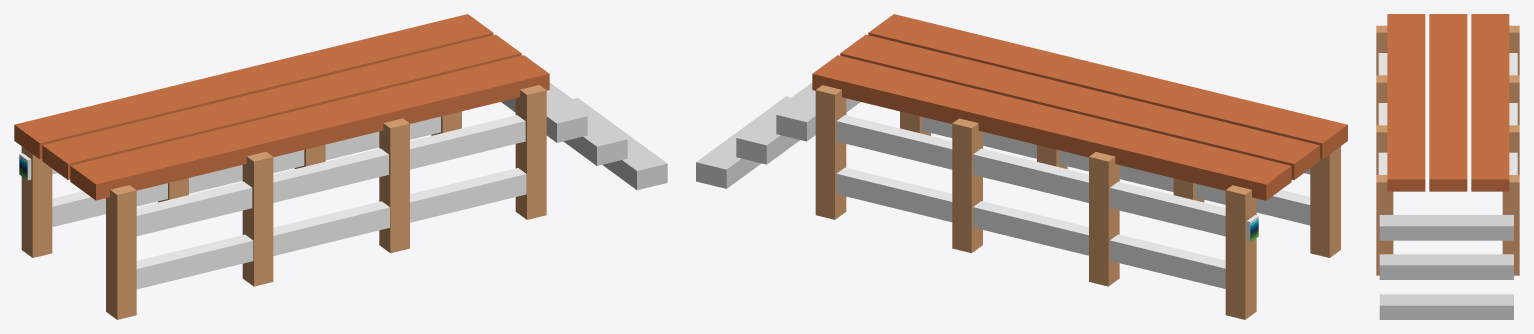
Rendered from Muelle.ProyectoExportadountitled 1.fbx.
The picture shows the model from 3 angles, left to right: view 1: azimuth 30°, elevation 25°; view 2: azimuth 150°, elevation 25°; view 3: azimuth 270°, elevation 25°; orthographic projection. The views are drawn at different scales.
Visible parts, largest first — view 1: Cube, Cube.008, Cube.014, Cube.013, Cube.009, Cube.015, Cube.001, Cube.002; view 2: Cube, Cube.008, Cube.011, Cube.009, Cube.014, Cube.012, Cube.015, Cube.001, Cube.002; view 3: Cube, Cube.008, Cube.015, Cube.001, Cube.002, Cube.013, Cube.011, Cube.012.
Boxes of the visible parts, <box> form: Cube: <box>14,14,549,200</box>; Cube.008: <box>21,85,546,319</box>; Cube.014: <box>136,168,526,289</box>; Cube.013: <box>136,115,525,236</box>; Cube.009: <box>52,116,440,226</box>; Cube.015: <box>573,98,667,190</box>; Cube.001: <box>549,82,627,165</box>; Cube.002: <box>501,89,587,142</box>; Cube: <box>812,14,1347,200</box>; Cube.008: <box>815,85,1340,319</box>; Cube.011: <box>836,118,1258,242</box>; Cube.009: <box>836,167,1225,288</box>; Cube.014: <box>922,117,1310,225</box>; Cube.012: <box>837,115,1251,239</box>; Cube.015: <box>696,96,790,188</box>; Cube.001: <box>736,82,812,164</box>; Cube.002: <box>776,89,860,141</box>; Cube: <box>1387,14,1509,191</box>; Cube.008: <box>1376,25,1519,275</box>; Cube.015: <box>1379,294,1513,319</box>; Cube.001: <box>1379,254,1513,279</box>; Cube.002: <box>1379,215,1513,240</box>; Cube.013: <box>1378,53,1387,174</box>; Cube.011: <box>1509,53,1517,174</box>; Cube.012: <box>1509,53,1517,174</box>.
Bounding box in the file's own units: 1742 × 393 × 510.
Materials: 1 (1 with a texture image).
